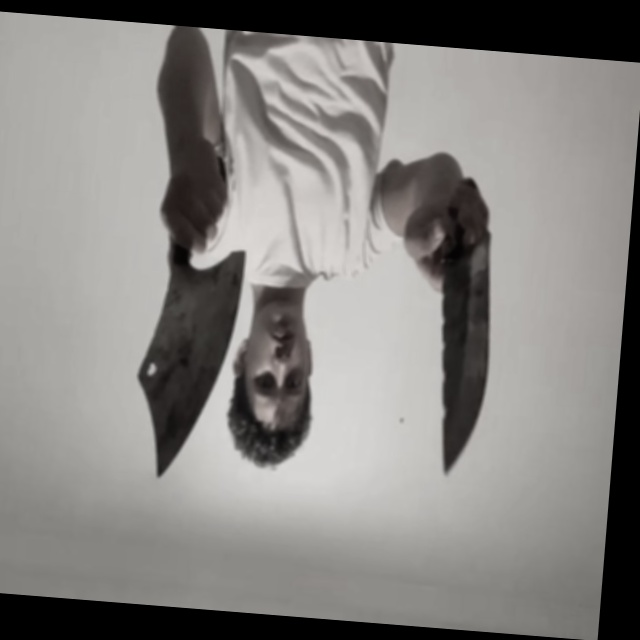Sharp-Object: (126, 244, 245, 488), (421, 231, 500, 479)
